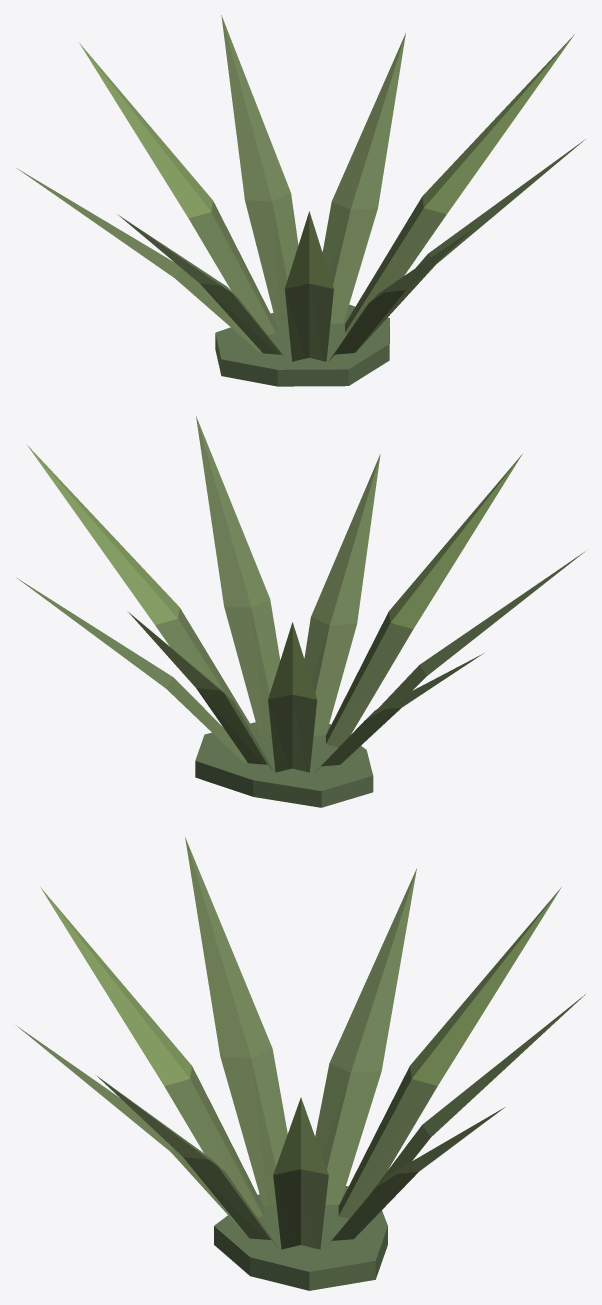
File: bit_grass_tuft.glb
The picture shows the model from 3 angles, top to bottom: view 1: azimuth 30°, elevation 25°; view 2: azimuth 150°, elevation 25°; view 3: azimuth 270°, elevation 25°; orthographic projection. The views are drawn at different scales.
Parts seen in each view (by area): view 1: Grass_Mesh, LeafTip_Mesh, Moss_Mesh; view 2: Grass_Mesh, LeafTip_Mesh, Moss_Mesh; view 3: Grass_Mesh, LeafTip_Mesh, Moss_Mesh.
Part boxes in pixels (<box>): Grass_Mesh: <box>16,15,585,361</box>; LeafTip_Mesh: <box>79,34,574,288</box>; Moss_Mesh: <box>215,304,389,386</box>; Grass_Mesh: <box>16,416,585,772</box>; LeafTip_Mesh: <box>27,445,522,699</box>; Moss_Mesh: <box>195,722,373,807</box>; Grass_Mesh: <box>16,837,586,1249</box>; LeafTip_Mesh: <box>40,887,561,1174</box>; Moss_Mesh: <box>214,1186,387,1290</box>.
Size of the model in its own units: 0.5749 by 0.28 by 0.4947.
